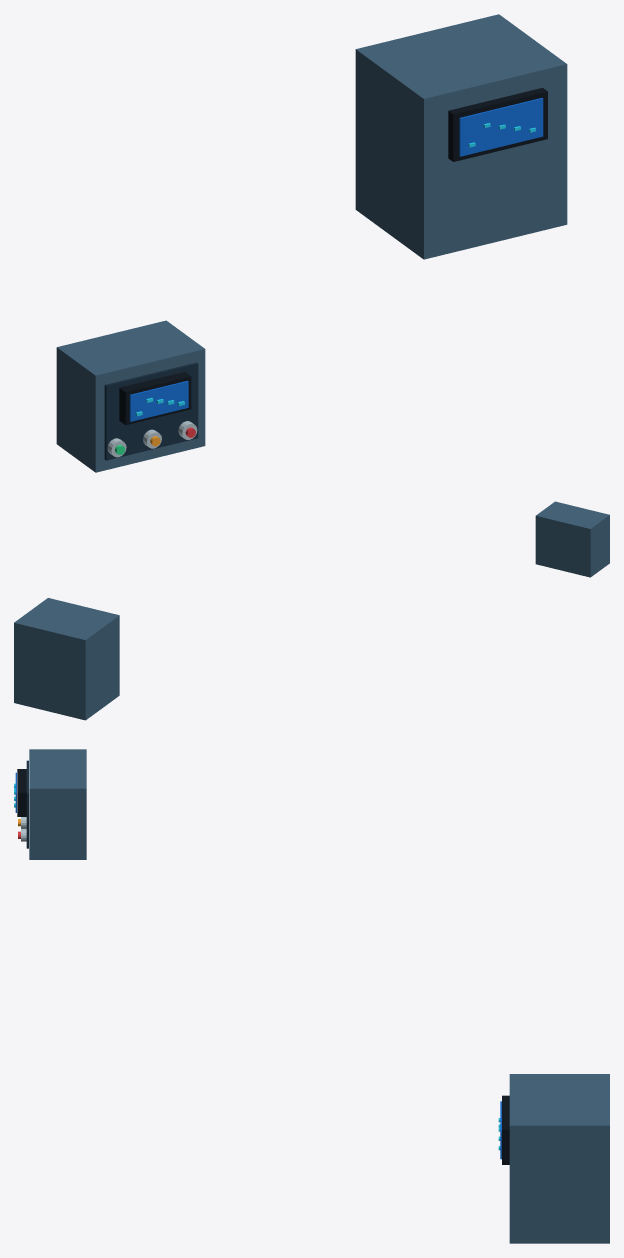
The model's file is 42_L69_ThermalLoadDisturbanceModule.fbx.
3 views of the same model, one above another, from view 1: azimuth 30°, elevation 25°; view 2: azimuth 150°, elevation 25°; view 3: azimuth 270°, elevation 25° (orthographic). The views are drawn at different scales.
Parts seen in each view (by area): view 1: ThermalLoadDisturbanceModule; view 2: ThermalLoadDisturbanceModule; view 3: ThermalLoadDisturbanceModule.
Part boxes in pixels (x1=…): ThermalLoadDisturbanceModule: x1=56, y1=14, x2=567, y2=472; ThermalLoadDisturbanceModule: x1=14, y1=501, x2=609, y2=720; ThermalLoadDisturbanceModule: x1=14, y1=749, x2=609, y2=1243.
Bounding box in the file's own units: 473 × 160 × 416.
